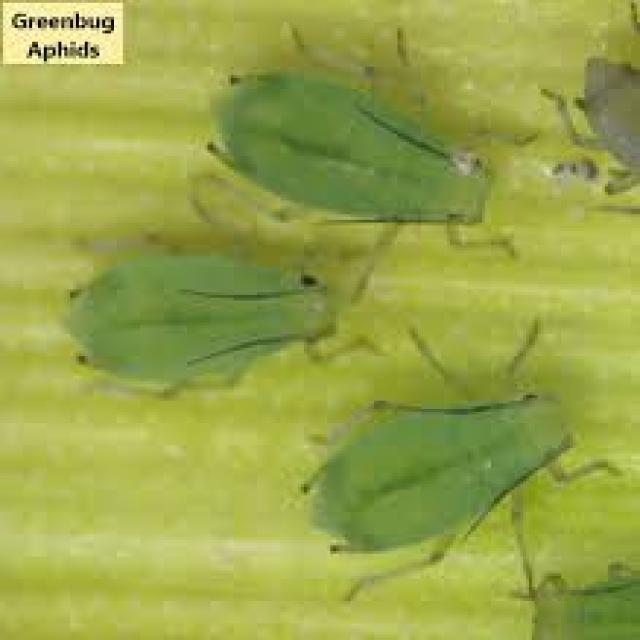Aphids: (31, 202, 377, 438), (280, 355, 614, 594), (182, 21, 514, 247)
